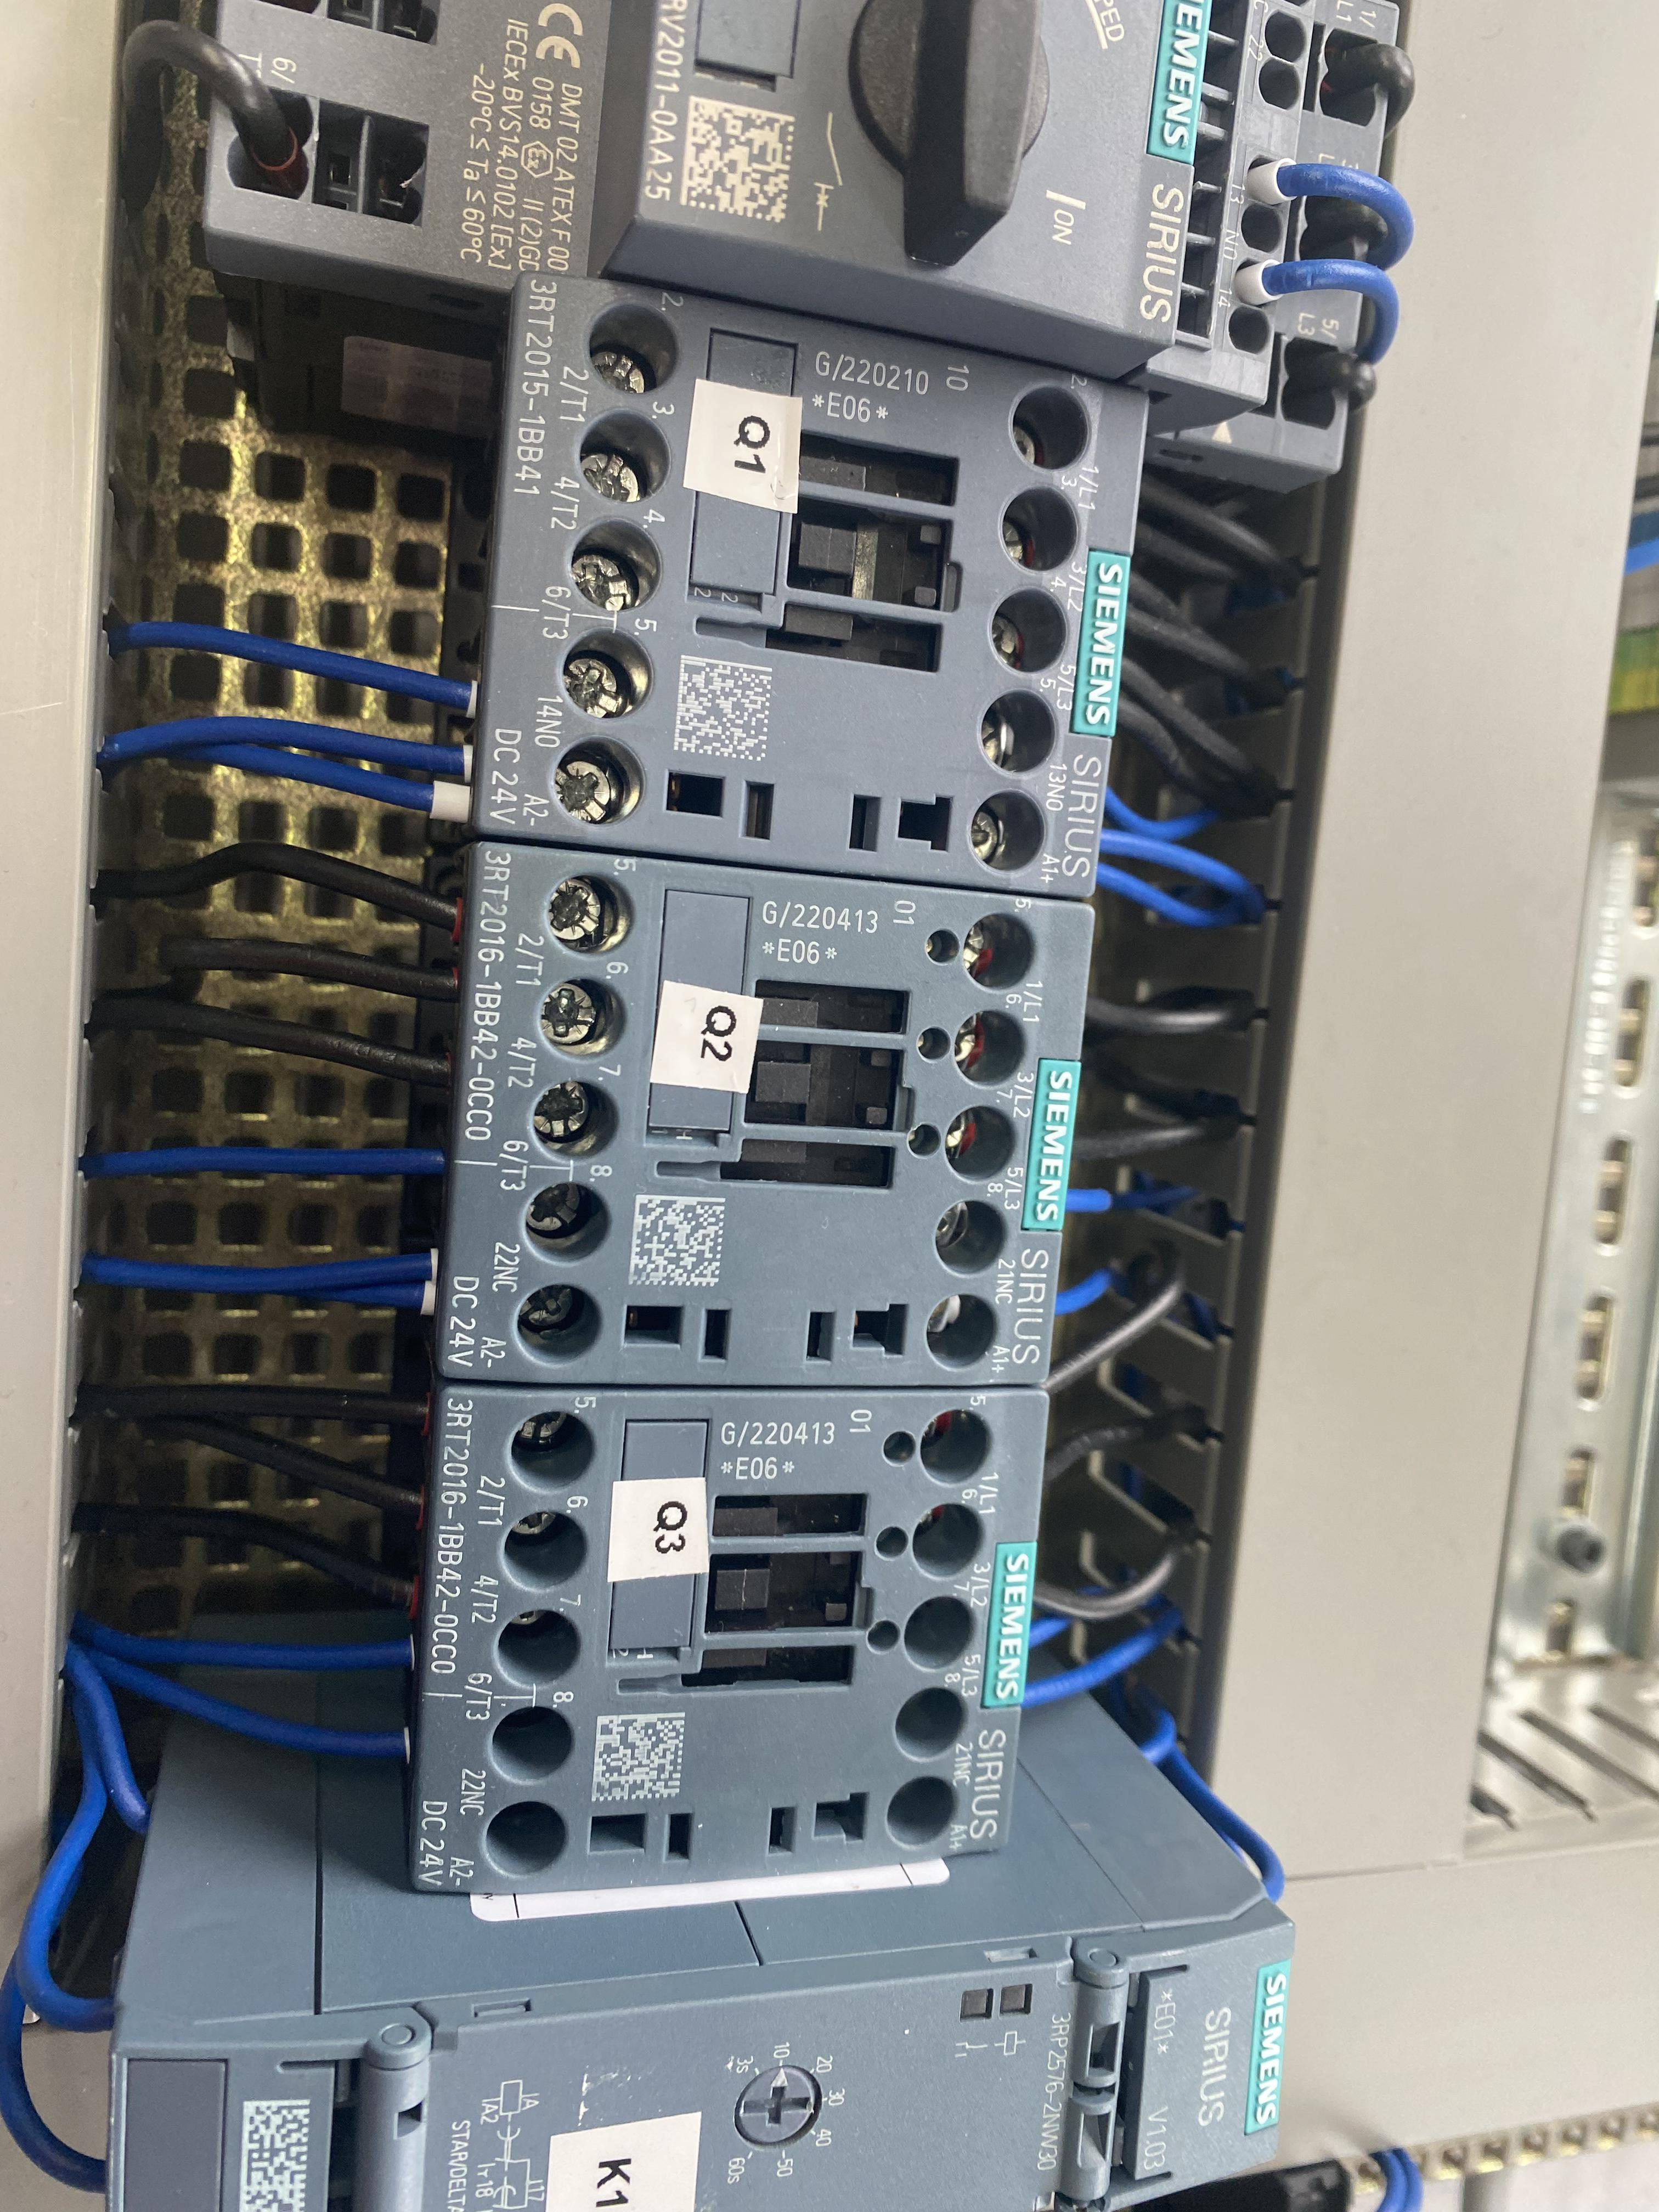K1: (119, 1921, 1290, 2212)
Q: (479, 268, 1155, 900)
Q2: (441, 845, 1100, 1395)
Q3: (408, 1385, 1049, 1892)
